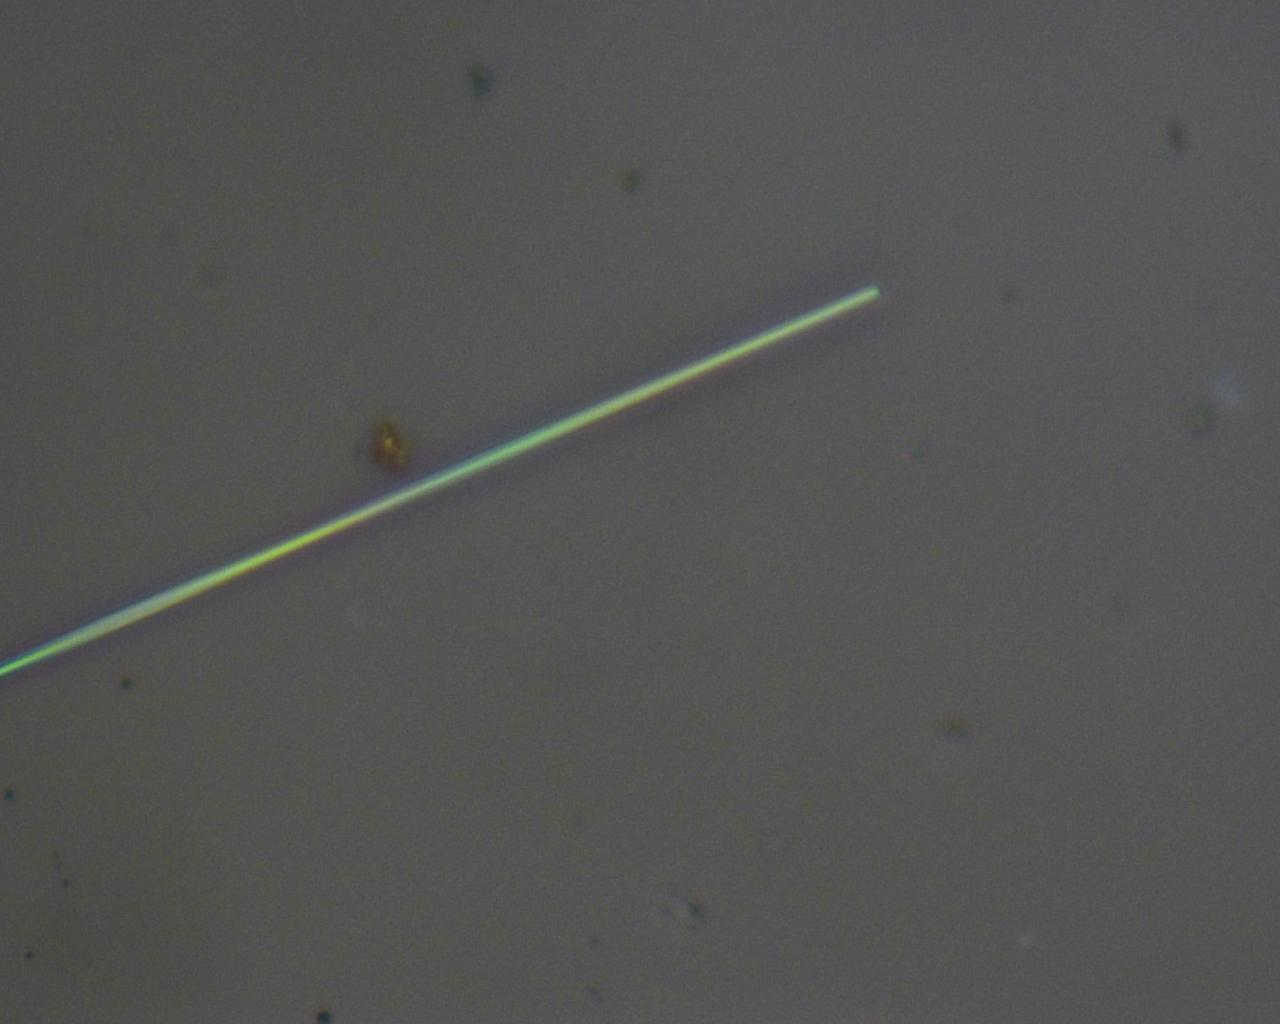fiber: (511, 0, 691, 1024)
